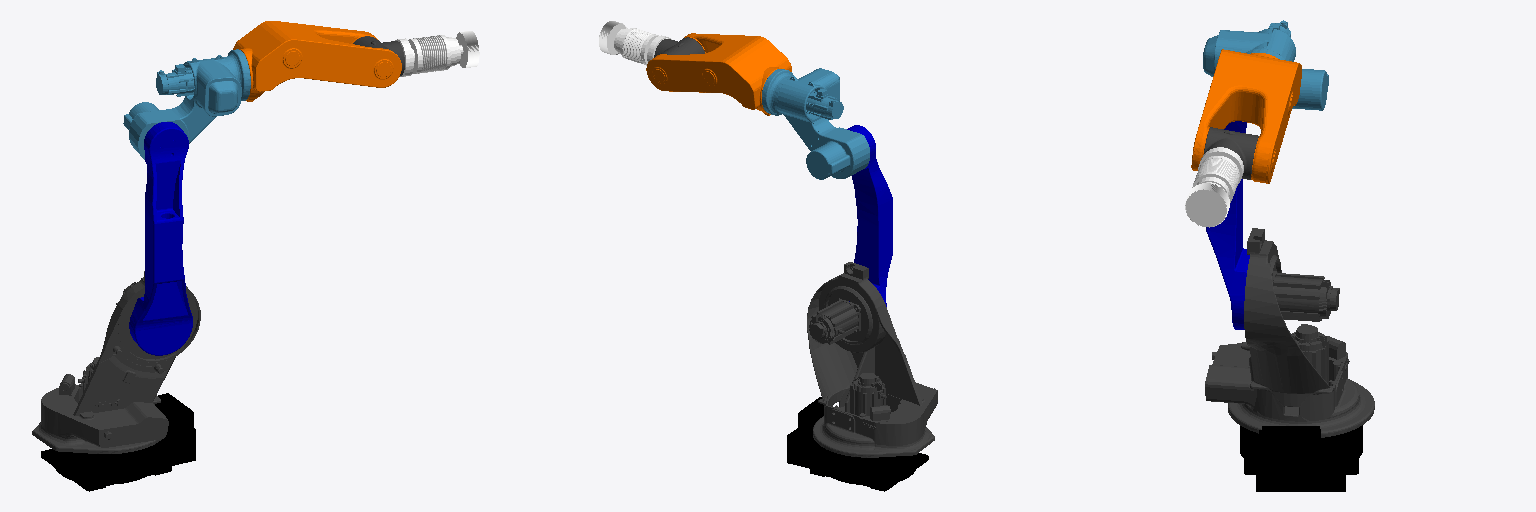
robot.urdf — m_mh24:
<?xml version="1.0" encoding="utf-8"?>

<robot name="m_mh24">
  <material name="DarkGrey">
    <color rgba="0.3 0.3 0.3 1.0"/>
  </material>
  <material name="Red">
    <color rgba="0.3 0.3 0.3 1.0"/>
  </material>
  <material name="Black">
    <color rgba="0 0 0 1.0"/>
  </material>
  <material name="Orange">
    <color rgba="1.0 0.487 0 1.0"/>
  </material>
  <material name="Silver">
    <color rgba="1.0 1.0 1.0 1.0"/>
  </material>
  <material name="Grey">
    <color rgba="0.7 0.7 0.7 1.0"/>
  </material>
  <material name="Blue">
    <color rgba="0.0 0.0 0.8 1.0"/>
  </material>
  <material name="HandGray">
    <color rgba="0.953 0.996 0.694 1.0"/>
  </material>
  <material name="SickBlue">
    <color rgba="0.3058 0.5921 0.7294 1.0"/>
  </material>

  <!--links-->
  <link name="world"/>
  <!--link name="base_link">
    <visual>
      <geometry>
        <box size="2.0 2.0 0.5"/>
      </geometry>
      <origin xyz="0 0 0.25" rpy="0 0 0" />
    </visual>
    <collision>
      <geometry>
        <box size="2.0 2.0 0.5"/>
      </geometry>
    </collision>
    <inertial>
      <origin xyz="0 0 0.25" rpy="0 0 0" />
      <mass value="1000000" />
      <inertia
        ixx="0.3333"
        ixy="0"
        ixz="0"
        iyy="0.3333"
        iyz="0"
        izz="0.6667" />
    </inertial>
  </link-->

  <link name="00_link">
    <inertial>
      <origin
        xyz="0.0651952757401018 -0.00111135577866065 0.0820117972141799"
        rpy="0 0 0" />
      <mass value="3" />
      <inertia
        ixx="1.9849048937555"
        ixy="0.00410475564409846"
        ixz="0.106687639386624"
        iyy="3.61179659152104"
        iyz="0.0107423198174343"
        izz="4.99307347614783" />
    </inertial> 
    <visual>
      <origin
        xyz="0 0 0"
        rpy="0 0 0" />
      <geometry>
        <mesh filename="package://m_mh24/meshes/base_link.STL" />
      </geometry>
      <material name="Black"/>
    </visual>
    <collision>
      <origin
        xyz="0 0 0"
        rpy="0 0 0" />
      <geometry>
        <mesh filename="package://m_mh24/meshes/base_link.STL" />
      </geometry>
    </collision>
  </link>
  
  <link name="01_link">
    <inertial>
      <origin
        xyz="0.0308290895792583 -0.0665272075983443 -0.287659445007901"
        rpy="0 0 0" />
      <mass
        value="1" />
      <inertia
        ixx="7.0570238993476"
        ixy="0.34612000331407"
        ixz="-2.07854712803038"
        iyy="8.19837913245963"
        iyz="0.617833628638447"
        izz="5.60234822335053" />
    </inertial>
    <visual>
      <origin
        xyz="0 0 0"
        rpy="0 0 0" />
      <geometry>
        <mesh filename="package://m_mh24/meshes/01_link.STL" />
      </geometry>
      <material name="DarkGrey"/>
    </visual>
    <collision>
      <origin
        xyz="0 0 0"
        rpy="0 0 0" />
      <geometry>
        <mesh filename="package://m_mh24/meshes/01_link.STL" />
      </geometry>
    </collision>
  </link>
  
  <link name="02_link">
    <inertial>
      <origin
        xyz="0.30555 0.010888 0.19203"
        rpy="0 0 0" />
      <mass value="0.9" />
      <inertia
        ixx="0.28879"
        ixy="-0.087944"
        ixz="-0.13623"
        iyy="4.632"
        iyz="-0.023922"
        izz="4.7157" />
    </inertial>
    <visual>
      <origin
        xyz="0 0 0"
        rpy="0 0 0" />
      <geometry>
        <mesh filename="package://m_mh24/meshes/02_link.STL" />
      </geometry>
      <material name="Blue"/>
    </visual>
    <collision>
      <origin
        xyz="0 0 0"
        rpy="0 0 0" />
      <geometry>
        <mesh filename="package://m_mh24/meshes/02_link.STL" />
      </geometry>
    </collision>
  </link>
  
  <link name="03_link">
    <inertial>
      <origin
        xyz="0.10481 -0.11408 0.08096"
        rpy="0 0 0" />
      <mass value="0.7" />
      <inertia
        ixx="0.84029"
        ixy="0.41541"
        ixz="-0.099597"
        iyy="0.72625"
        iyz="0.037172"
        izz="1.1592" />
    </inertial>
    <visual>
      <origin
        xyz="0 0 0"
        rpy="0 0 0" />
      <geometry>
        <mesh filename="package://m_mh24/meshes/03_link.STL" />
      </geometry>
      <material name="SickBlue"/>
    </visual>
    <collision>
      <origin
        xyz="0 0 0"
        rpy="0 0 0" />
      <geometry>
        <mesh filename="package://m_mh24/meshes/03_link.STL" />
      </geometry>
    </collision>
  </link>

  <link name="04_link">
    <inertial>
      <origin
        xyz="-0.0400367957302592 0.00182880599133015 0.546518360643415"
        rpy="0 0 0" />
      <mass value="0.5" />
      <inertia
        ixx="0.78"
        ixy="0.00"
        ixz="-0.03"
        iyy="0.78"
        iyz="0.00"
        izz="0.22" />
    </inertial>
    <visual>
      <origin
        xyz="0 0 0"
        rpy="0 0 0" />
      <geometry>
        <mesh filename="package://m_mh24/meshes/04_link.STL" />
      </geometry>
      <material name="Orange"/>
    </visual>
    <collision>
      <origin
        xyz="0 0 0"
        rpy="0 0 0" />
      <geometry>
        <mesh filename="package://m_mh24/meshes/04_link.STL" />
      </geometry>
    </collision>
  </link>

  <link name="05_link">
    <inertial>
      <origin
        xyz="7.8699E-06 -0.030093 -0.0064769"
        rpy="0 0 0" />
      <mass value="0.3" />
      <inertia
        ixx="0.027316"
        ixy="6.5034E-06"
        ixz="2.0266E-05"
        iyy="0.028339"
        iyz="0.00032343"
        izz="0.037473" />
    </inertial>
    <visual>
      <origin
        xyz="0 0 0"
        rpy="0 0 0" />
      <geometry>
        <mesh filename="package://m_mh24/meshes/05_link.STL" />
      </geometry>
      <material name="Red"/>
    </visual>
    <collision>
      <origin
        xyz="0 0 0"
        rpy="0 0 0" />
      <geometry>
        <mesh filename="package://m_mh24/meshes/05_link.STL" />
      </geometry>
    </collision>
  </link>

  <link name="06_link">
    <inertial>
      <origin
        xyz="-1.5601E-05 3.1533E-05 0.27545"
        rpy="0 0 0" />
      <mass
        value="0.1" />
      <inertia
        ixx="0.15671"
        ixy="2.9611E-07"
        ixz="-3.1275E-05"
        iyy="0.1567"
        iyz="2.6481E-05"
        izz="0.042049" />
    </inertial>
    <visual>
      <origin
        xyz="0 0 0"
        rpy="0 0 0" />
      <geometry>
        <mesh filename="package://m_mh24/meshes/06_link.STL" />
      </geometry>
      <material name="Silver"/>
    </visual>
    <collision>
      <origin
        xyz="0 0 0"
        rpy="0 0 0" />
      <geometry>
        <mesh filename="package://m_mh24/meshes/06_link.STL" />
      </geometry>
    </collision>
  </link>

  <!-- joints-->

  <joint name="world_base_joint" type="fixed">
    <parent link="world"/>
    <child link="00_link"/>
    <origin xyz="0 0 0" rpy="0 0 0" />
  </joint>

  <joint name="s_joint" type="revolute">
    <origin
      xyz="-0.00549 0.019704 0.62959"
      rpy="0 0 -0.16856" />
    <parent link="00_link" />
    <child link="01_link" />
    <axis xyz="0 0 1" />
    <limit
      lower="-3.14"
      upper="3.14"
      effort="1000"
      velocity="3" />
    <dynamics
      damping="1" 
      friction="30"/>
  </joint>

  <joint name="l_joint" type="revolute">
    <origin
      xyz="0.17935 0 0"
      rpy="1.5708 -1.5425 0" />
    <parent link="01_link" />
    <child link="02_link" />
    <axis xyz="0 0 1" />
    <limit
      lower="-1.57"
      upper="1.57"
      effort="1000"
      velocity="4" />
    <dynamics
      damping="1" 
      friction="55"/>
  </joint>

  <joint name="u_joint" type="revolute">
    <origin
      xyz="0.760000000000005 0 0"
      rpy="0 0 -0.00486097653808946" />
    <parent link="02_link" />
    <child link="03_link" />
    <axis xyz="0 0 1" />
    <limit
      lower="-1.57"
      upper="1.57"
      effort="1000"
      velocity="5" />
    <dynamics
      damping="1" 
      friction="40"/>
  </joint>

  <joint name="r_joint" type="revolute">
    <origin
      xyz="0.2 0 0.057"
      rpy="-1.5708 -0.11665 -3.1416" />
    <parent link="03_link" />
    <child link="04_link" />
    <axis xyz="0 0 1" />
    <limit
      lower="-3.14"
      upper="3.14"
      effort="1000"
      velocity="5" />
    <dynamics
      damping="1" 
      friction="10"/>
  </joint>

  <joint name="b_joint" type="revolute">
    <origin
      xyz="0.0043913 0.00051459 0.87818"
      rpy="-1.5708 0.0039292 3.1416" />
    <parent link="04_link" />
    <child link="05_link" />
    <axis xyz="0 0 1" />
    <limit
      lower="-1.57"
      upper="1.57"
      effort="1000"
      velocity="5" />
    <dynamics
      damping="1" 
      friction="10"/>
  </joint>

  <joint name="t_joint" type="continuous">
    <origin
      xyz="0 0 0.022215"
      rpy="1.5708 -1.5708 0" />
    <parent link="05_link" />
    <child link="06_link" />
    <axis xyz="0 0 1" />
    <limit
      effort="1000"
      velocity="5" />
    <dynamics
      damping="1" 
      friction="5"/>
  </joint>

  <!-- gazebo -->
  <gazebo reference="00_link">
    <material>Gazebo/DarkGray</material>
  </gazebo>
  <gazebo reference="01_link">
    <material>Gazebo/Green</material>
  </gazebo>
  <gazebo reference="02_link">
    <material>Gazebo/Blue</material>
  </gazebo>
  <gazebo reference="03_link">
    <material>Gazebo/SkyBlue</material>
  </gazebo>
  <gazebo reference="04_link">
    <material>Gazebo/Yellow</material>
  </gazebo>
  <gazebo reference="05_link">
    <material>Gazebo/Orange</material>
  </gazebo>
  <gazebo reference="06_link">
    <material>Gazebo/Red</material>
  </gazebo>
  
<!-- plugin -->
  <gazebo>
    <static>false</static>
    <plugin name="gazebo_ros_control" filename="libgazebo_ros_control.so">
      <robotNamespace>/m_mh24</robotNamespace>
      <robotSimType>gazebo_ros_control/DefaultRobotHWSim</robotSimType>
      <legacyModeNS>true</legacyModeNS>
    </plugin>
  </gazebo>

  <!--imu sensor -->
  <gazebo reference="06_link">
    <gravity>true</gravity>
    <sensor name="06_sensor" type="imu">
      <always_on>true</always_on>
      <update_rate>100</update_rate>
      <visualize>true</visualize>
      <topic>__default_topic__</topic>
      <plugin filename="libgazebo_ros_imu_sensor.so" name="imu_plugin">
        <topicName>imu</topicName>
        <bodyName>06_link</bodyName>
        <updateRateHZ>10.0</updateRateHZ>
        <gaussianNoise>0.0</gaussianNoise>
        <xyzOffset>0 0 0</xyzOffset>
        <rpyOffset>0 0 0</rpyOffset>
        <frameName>world</frameName>
      </plugin>
      <pose>0 0 0 0 0 0</pose>
    </sensor>
  </gazebo>

  <!--TorqurForce sensor-->
  <gazebo reference="s_joint">
    <provideFeedback>true</provideFeedback>
  </gazebo>

  <gazebo>
    <plugin name="ft_sensor" filename="libgazebo_ros_ft_sensor.so">
      <updateRate>100.0</updateRate>
      <topicName>m_mh24/ft_sensor/s_joint</topicName>
      <jointName>s_joint</jointName>
    </plugin>
  </gazebo>

  <gazebo reference="l_joint">
    <provideFeedback>true</provideFeedback>
  </gazebo>

  <gazebo>
    <plugin name="ft_sensor" filename="libgazebo_ros_ft_sensor.so">
      <updateRate>100.0</updateRate>
      <topicName>m_mh24/ft_sensor/l_joint</topicName>
      <jointName>l_joint</jointName>
    </plugin>
  </gazebo>

  <gazebo reference="u_joint">
    <provideFeedback>true</provideFeedback>
  </gazebo>

  <gazebo>
    <plugin name="ft_sensor" filename="libgazebo_ros_ft_sensor.so">
      <updateRate>100.0</updateRate>
      <topicName>m_mh24/ft_sensor/u_joint</topicName>
      <jointName>u_joint</jointName>
    </plugin>
  </gazebo>

  <gazebo reference="r_jonit">
    <provideFeedback>true</provideFeedback>
  </gazebo>

  <gazebo>
    <plugin name="ft_sensor" filename="libgazebo_ros_ft_sensor.so">
    <updateRate>100.0</updateRate>
    <topicName>m_mh24/ft_sensor/r_joint</topicName>
    <jointName>r_joint</jointName>
    </plugin>
  </gazebo>

  <gazebo reference="b_joint">
    <provideFeedback>true</provideFeedback>
  </gazebo>

  <gazebo>
    <plugin name="ft_sensor" filename="libgazebo_ros_ft_sensor.so">
    <updateRate>100.0</updateRate>
    <topicName>m_mh24/ft_sensor/b_joint</topicName>
    <jointName>b_joint</jointName>
    </plugin>
  </gazebo>

  <gazebo reference="t_joint">
    <provideFeedback>true</provideFeedback>
  </gazebo>

  <gazebo>
    <plugin name="ft_sensor" filename="libgazebo_ros_ft_sensor.so">
      <updateRate>100.0</updateRate>
      <topicName>m_mh24/ft_sensor/t_joint</topicName>
      <jointName>t_joint</jointName>
    </plugin>
  </gazebo>


<!--transmission-->
  <transmission name="s_transmission">
    <type>transmission_interface/SimpleTransmission</type>
    <joint name="s_joint">
      <hardwareInterface>hardware_interface/PositionJointInterface</hardwareInterface>
    </joint>
    <actuator name="s_motor">
      <hardwareInterface>hardware_interface/PositionJointInterface</hardwareInterface>
      <mechanicalReducction>1</mechanicalReducction>
    </actuator>
  </transmission>
  <transmission name="l_transmission">
    <type>transmission_interface/SimpleTransmission</type>
    <joint name="l_joint">
      <hardwareInterface>hardware_interface/PositionJointInterface</hardwareInterface>
    </joint>
    <actuator name="l_motor">
      <hardwareInterface>hardware_interface/PositionJointInterface</hardwareInterface>      
      <mechanicalReducction>1</mechanicalReducction>
    </actuator>
  </transmission>
  <transmission name="u_transmission">
    <type>transmission_interface/SimpleTransmission</type>
    <joint name="u_joint">
      <hardwareInterface>hardware_interface/PositionJointInterface</hardwareInterface>
    </joint>
    <actuator name="u_motor">
      <hardwareInterface>hardware_interface/PositionJointInterface</hardwareInterface>
      <mechanicalReducction>1</mechanicalReducction>
    </actuator>
  </transmission>
  <transmission name="r_transmission">
    <type>transmission_interface/SimpleTransmission</type>
    <joint name="r_joint">
      <hardwareInterface>hardware_interface/PositionJointInterface</hardwareInterface>
    </joint>
    <actuator name="r_motor">
      <hardwareInterface>hardware_interface/PositionJointInterface</hardwareInterface>
      <mechanicalReducction>1</mechanicalReducction>
    </actuator>
  </transmission>
  <transmission name="b_transmission">
    <type>transmission_interface/SimpleTransmission</type>
    <joint name="b_joint">
      <hardwareInterface>hardware_interface/PositionJointInterface</hardwareInterface>
    </joint>
    <actuator name="b_motor">
      <hardwareInterface>hardware_interface/PositionJointInterface</hardwareInterface>
      <mechanicalReducction>1</mechanicalReducction>
    </actuator>
  </transmission>
  <transmission name="t_transmission">
    <type>transmission_interface/SimpleTransmission</type>
    <joint name="t_joint">
      <hardwareInterface>hardware_interface/PositionJointInterface</hardwareInterface>
    </joint>
    <actuator name="t_motor">
      <hardwareInterface>hardware_interface/PositionJointInterface</hardwareInterface>
      <mechanicalReducction>1</mechanicalReducction>
    </actuator>
  </transmission>
</robot>

--- Render facts (derived) ---
Views: 3 orthographic renders of the robot side by side, from view 1: azimuth 30°, elevation 25°; view 2: azimuth 150°, elevation 25°; view 3: azimuth 270°, elevation 25°.
Model m_mh24 with 8 links and 7 joints (5 revolute, 1 continuous, 1 fixed), rooted at world, posed every joint at zero.
Links seen in each view (by area): view 1: 01_link, 02_link, 04_link, 03_link, 00_link, 06_link; view 2: 01_link, 03_link, 04_link, 00_link, 02_link, 06_link, 05_link; view 3: 01_link, 04_link, 00_link, 03_link, 06_link, 02_link, 05_link.
Link boxes in pixels (x1,y1,x2,y2): 01_link: (32, 271, 200, 453); 02_link: (129, 122, 192, 355); 04_link: (233, 21, 401, 101); 03_link: (123, 49, 250, 159); 00_link: (41, 393, 195, 491); 06_link: (395, 31, 479, 76); 01_link: (807, 262, 937, 457); 03_link: (762, 68, 869, 179); 04_link: (646, 33, 791, 115); 00_link: (787, 397, 928, 491); 02_link: (847, 125, 892, 306); 06_link: (599, 21, 671, 65); 05_link: (654, 37, 704, 57); 01_link: (1205, 228, 1374, 437); 04_link: (1191, 49, 1301, 183); 00_link: (1240, 425, 1362, 491); 03_link: (1203, 20, 1328, 110); 06_link: (1185, 147, 1243, 227); 02_link: (1206, 121, 1249, 329); 05_link: (1204, 127, 1258, 179).
Bounding box of the posed robot: 1.74 × 0.6177 × 1.75 m (x, y, z).
7 mesh visuals loaded from 7 distinct referenced files (7 binary STL).
